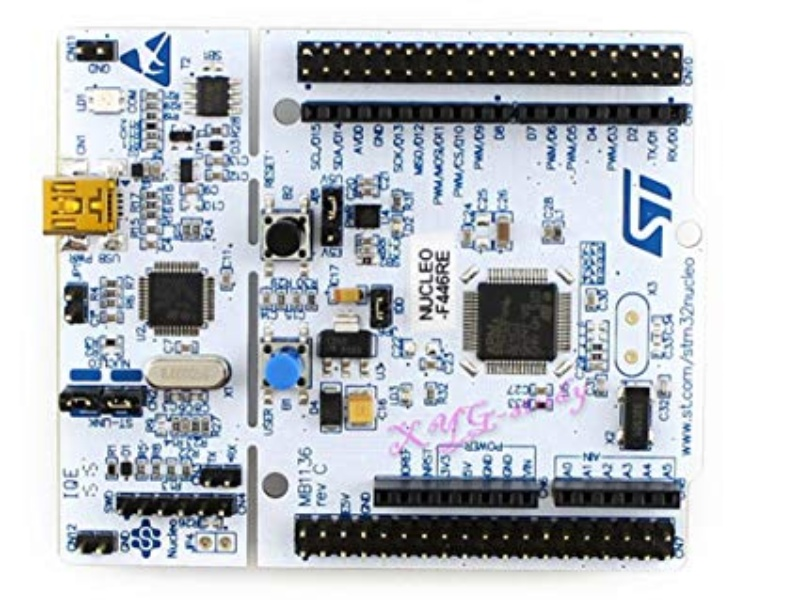stmnucleo: (48, 16, 692, 576)
